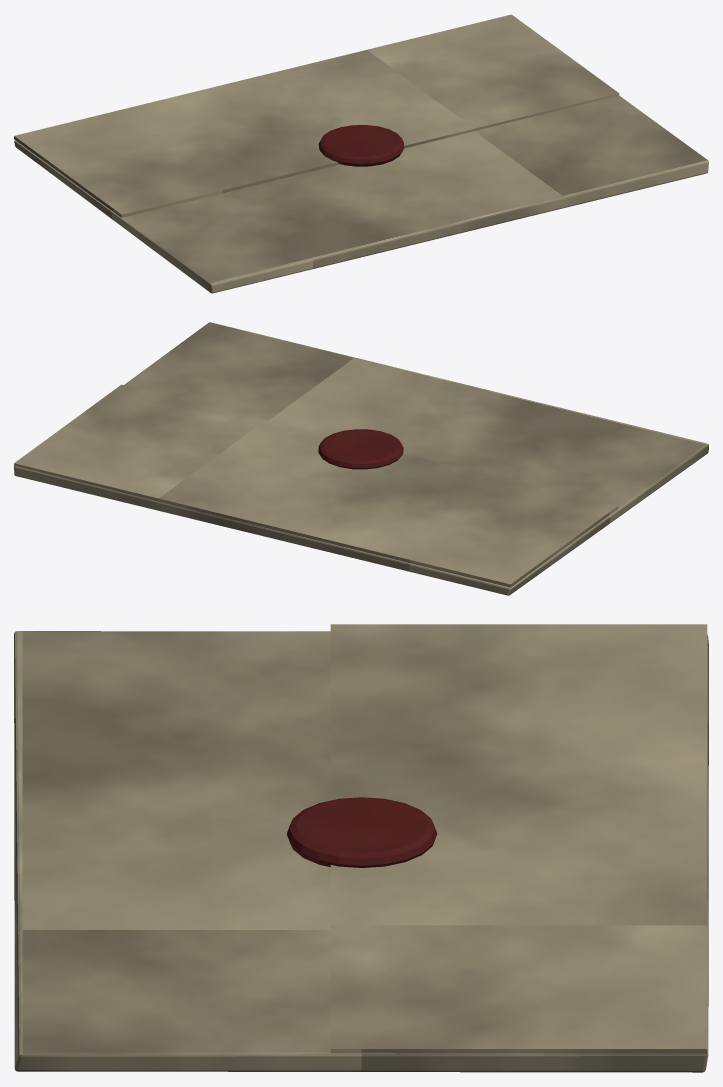
File: G06_envelope_wax_seal.glb
3 views of the same model, one above another, from view 1: azimuth 30°, elevation 25°; view 2: azimuth 150°, elevation 25°; view 3: azimuth 270°, elevation 25° (orthographic). The views are drawn at different scales.
Parts seen in each view (by area): view 1: G06_envelope_wax_seal; view 2: G06_envelope_wax_seal; view 3: G06_envelope_wax_seal.
Boxes of the visible parts, x1,y1,x2,y2 form: G06_envelope_wax_seal: (14,14,708,293); G06_envelope_wax_seal: (14,322,708,595); G06_envelope_wax_seal: (14,624,708,1072).
Size of the model in its own units: 0.2 by 0.00782 by 0.1378.
2 materials, 2 textured.
